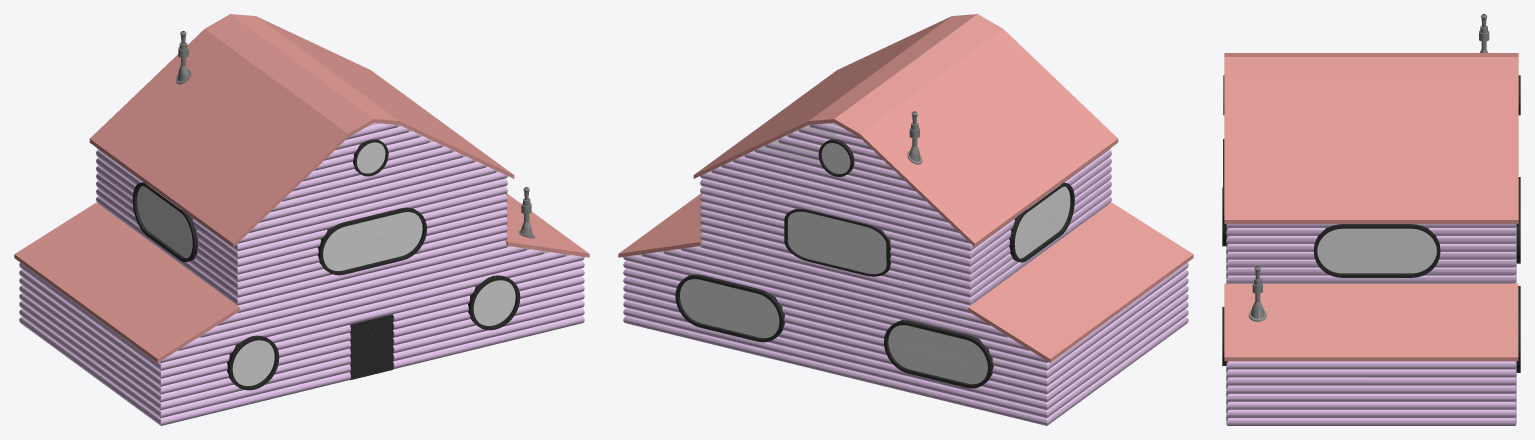
Rendered from Mo_ForestVillageHouse03.fbx.
The picture shows the model from 3 angles, left to right: view 1: azimuth 30°, elevation 25°; view 2: azimuth 150°, elevation 25°; view 3: azimuth 270°, elevation 25°; orthographic projection. The views are drawn at different scales.
Parts seen in each view (by area): view 1: Cube; view 2: Cube; view 3: Cube.
Boxes of the visible parts, bbox=[...] form: Cube: bbox=[14, 14, 589, 425]; Cube: bbox=[618, 14, 1193, 425]; Cube: bbox=[1222, 14, 1520, 425].
Size of the model in its own units: 2871 by 1700 by 1676.
